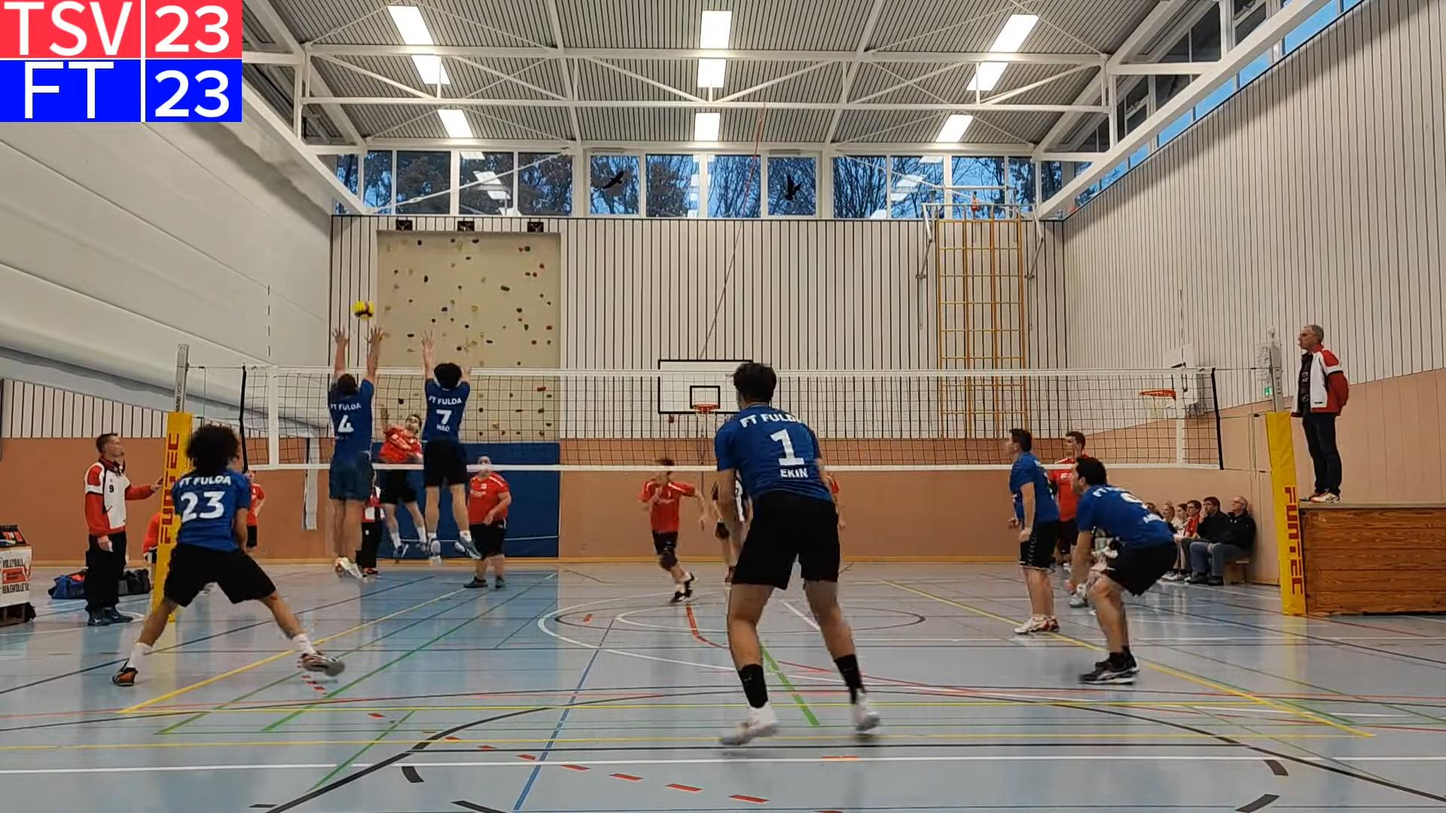Attack: (370, 391, 430, 558)
Block: (327, 323, 389, 584), (417, 330, 481, 566)
Player: (715, 363, 878, 744), (112, 425, 343, 686), (1066, 458, 1176, 683), (1007, 428, 1059, 634), (638, 458, 707, 602), (465, 455, 511, 589), (1048, 431, 1085, 568), (1048, 431, 1085, 565), (708, 481, 749, 586)
ball: (356, 301, 379, 317)
